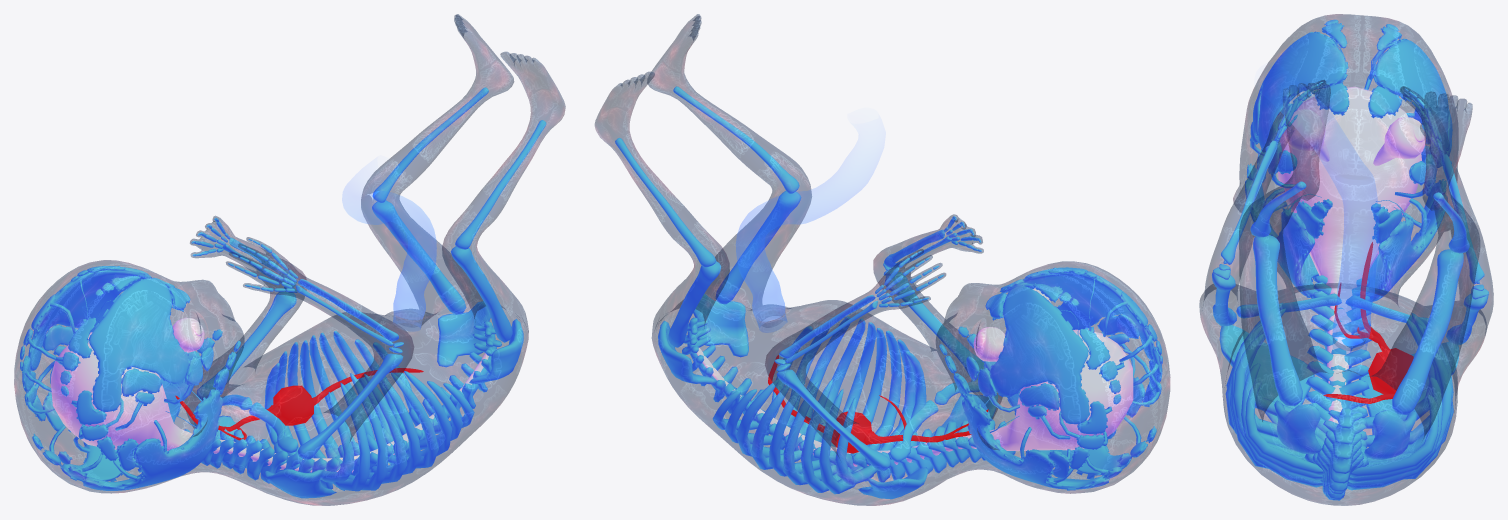
Rendered from android_embryo_original_concept.glb.
The picture shows the model from 3 angles, left to right: view 1: azimuth 30°, elevation 25°; view 2: azimuth 150°, elevation 25°; view 3: azimuth 270°, elevation 25°; orthographic projection. The views are drawn at different scales.
Parts seen in each view (by area): view 1: Plane_5, skull_8, ribcage_7, legbones_4, handbones_2, brain_1, backbone_0, Plane.002_6, heart_3; view 2: Plane_5, skull_8, ribcage_7, handbones_2, legbones_4, brain_1, Plane.002_6, backbone_0, heart_3; view 3: Plane_5, skull_8, brain_1, legbones_4, ribcage_7, handbones_2, backbone_0, Plane.002_6, heart_3.
Part boxes in pixels (x1,y1,x2,y2): Plane_5: (14,14,565,505); skull_8: (20,266,240,490); ribcage_7: (264,331,474,491); legbones_4: (372,87,546,384); handbones_2: (191,217,403,498); brain_1: (51,317,488,472); backbone_0: (184,321,501,490); Plane.002_6: (342,188,436,330); heart_3: (175,368,423,440); Plane_5: (595,14,1170,505); skull_8: (939,267,1162,490); ribcage_7: (712,316,926,494); handbones_2: (774,216,997,499); legbones_4: (615,86,801,384); brain_1: (696,288,1133,466); Plane.002_6: (736,164,876,332); backbone_0: (682,317,1015,482); heart_3: (768,355,988,453); Plane_5: (1199,14,1493,505); skull_8: (1245,19,1452,302); brain_1: (1278,86,1425,423); legbones_4: (1250,181,1469,459); ribcage_7: (1225,303,1453,490); handbones_2: (1212,82,1488,434); backbone_0: (1304,275,1371,500); Plane.002_6: (1319,111,1378,355); heart_3: (1323,242,1413,403).
Bounding box in the file's own units: 0.9481 × 0.7176 × 0.3856.
6 materials, 2 textured.
